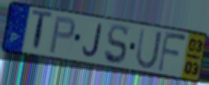F: (156, 30, 188, 74)
J: (81, 23, 103, 59)
P: (48, 15, 77, 55)
S: (103, 23, 129, 66)
T: (31, 9, 54, 55)
U: (134, 27, 164, 71)
